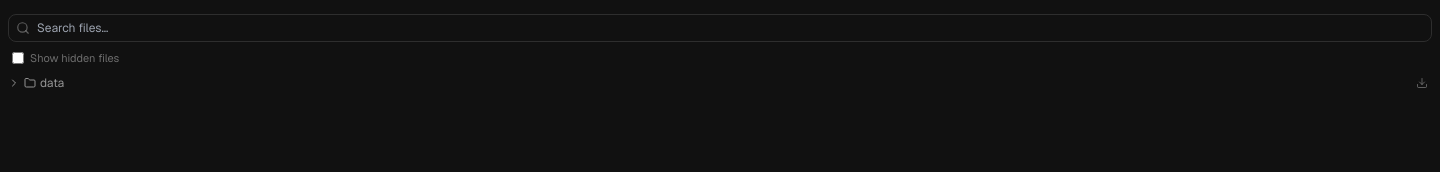
it: SidebarWorkspaceTree refresh › refetches expanded subdirs (not just root) and bypasses the HTTP cache
Click the button "data": (14, 82) [8,74,1408,90]
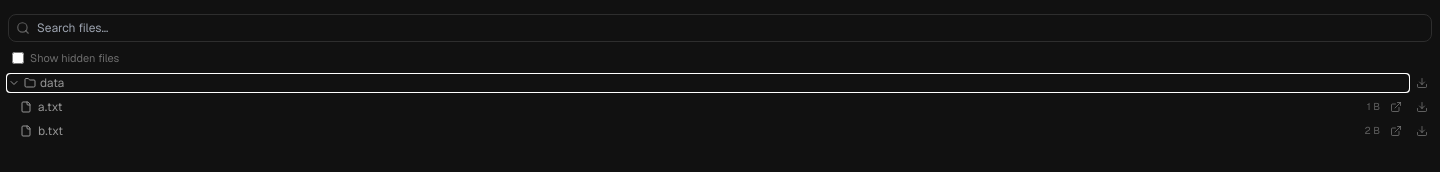
Expected: the text "a.txt" is shown, [38,98,62,114]
Expected: the text "b.txt" is shown, [38,122,63,138]
